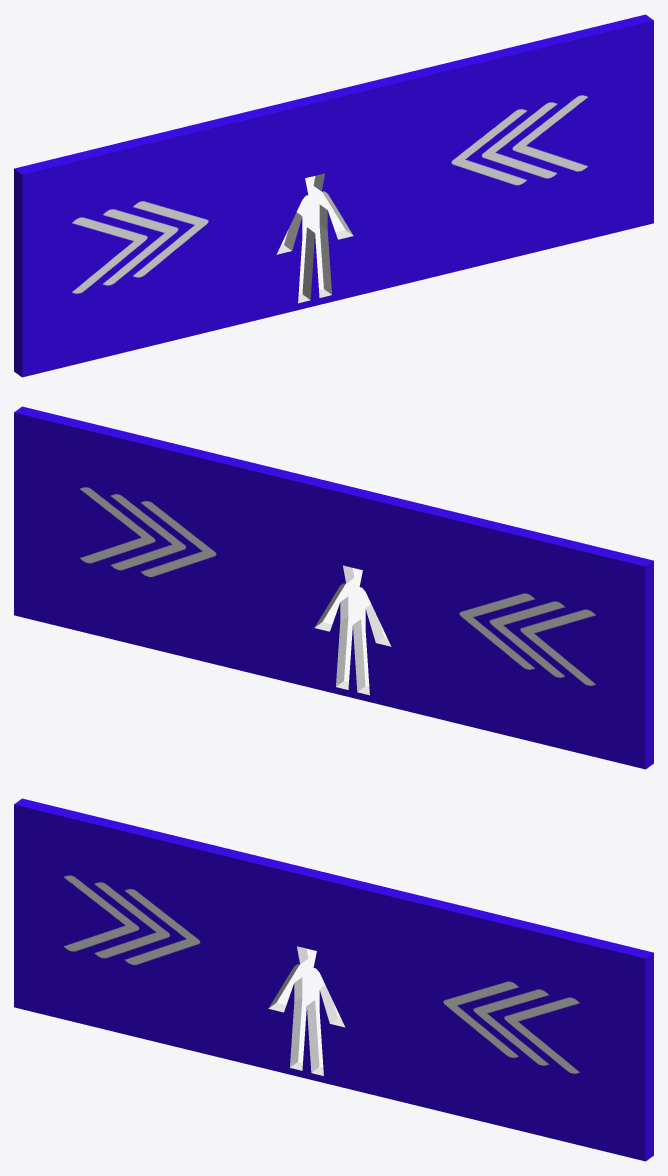
File: Hands down.glb
3 renders of one model, top to bottom at view 1: azimuth 30°, elevation 25°; view 2: azimuth 150°, elevation 25°; view 3: azimuth 330°, elevation 25°, orthographic.
Visible parts, largest first — view 1: Cube.028; view 2: Cube.028; view 3: Cube.028.
Part boxes in pixels (bbox=[...]): Cube.028: bbox=[14, 14, 653, 377]; Cube.028: bbox=[14, 406, 653, 769]; Cube.028: bbox=[14, 798, 653, 1161].
Bounding box in the file's own units: 10.01 × 3.07 × 0.2253.
Materials: 1 (1 with a texture image).
